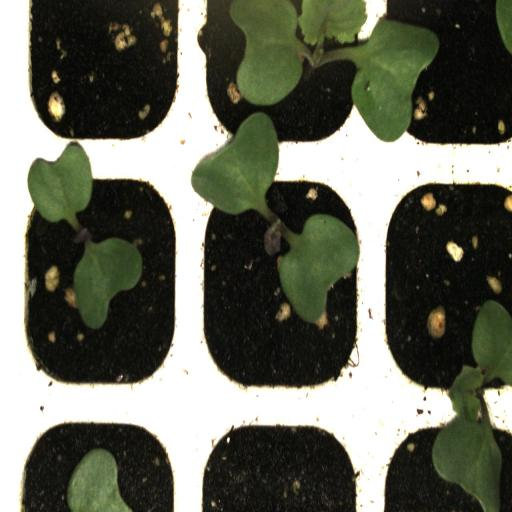Folha: (432, 300, 512, 512), (278, 213, 360, 323), (73, 237, 143, 329), (27, 144, 93, 225), (67, 448, 132, 512)
Germinacao: (187, 156, 374, 403), (12, 158, 187, 404), (371, 155, 512, 412), (189, 0, 378, 161)
